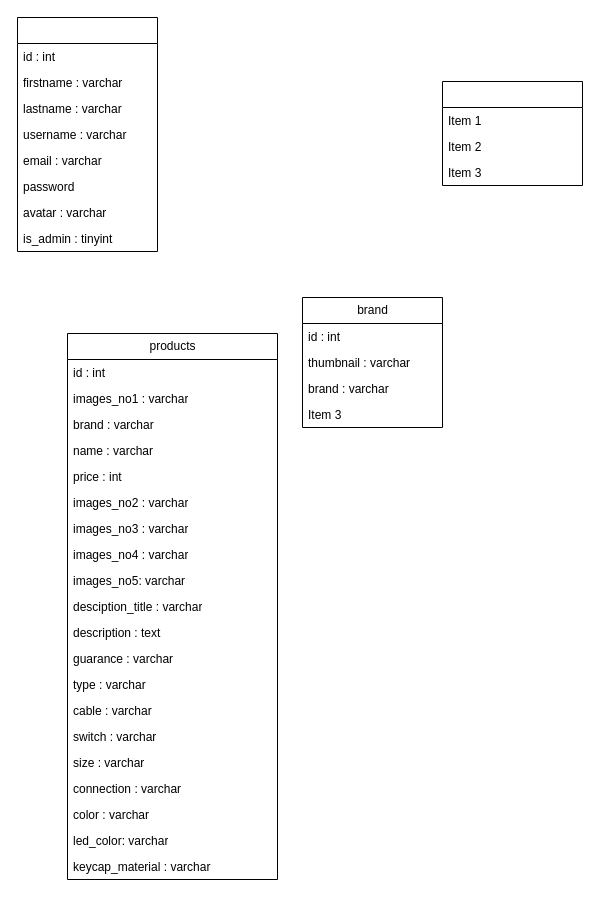
This 600x900 diagram has some shape labels left out. Each missing label, with the box of its shape:
List: (442, 80, 582, 186)
users: (16, 16, 158, 252)
